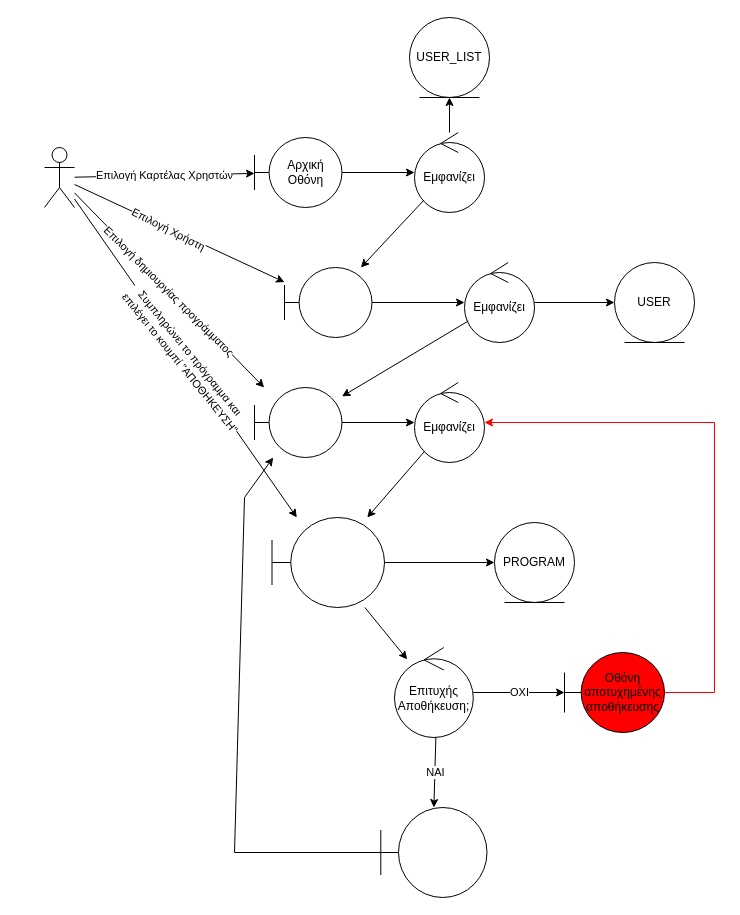
The diagram is 740 pixels wide and 915 high, and some of its shapes have lost their labels. The centre of each missing label's shape, as x and y in pixels:
Διατροφολόγος ή Γυμναστής: (59,177)
Οθόνη επιτυχημένης αποθήκευσης: (433,852)
Οθόνη λίστας χρηστών: (328,302)
Οθόνη προφίλ χρήστη: (298,422)
Οθόνη συμπλήρωσης προγράμματος: (327,562)
